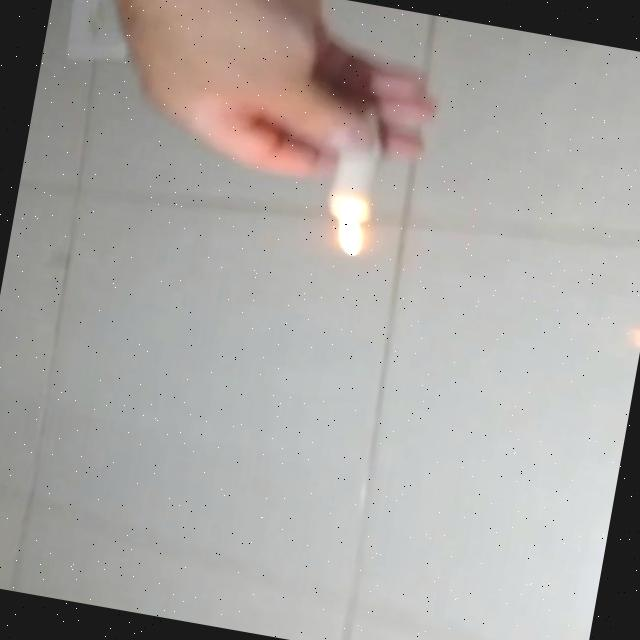fire: (330, 217, 370, 258)
